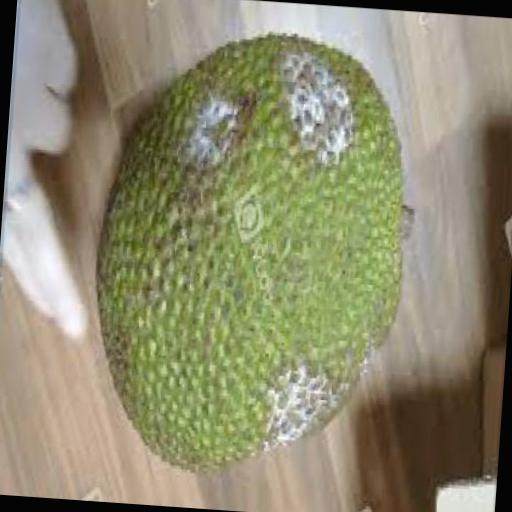biodegradable: (82, 17, 430, 486)
